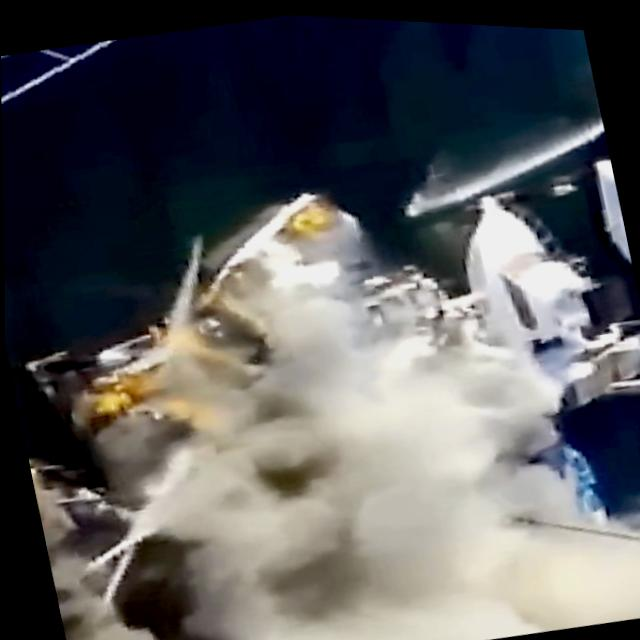smoke: (261, 291, 542, 560), (278, 466, 633, 640), (43, 521, 189, 640)
